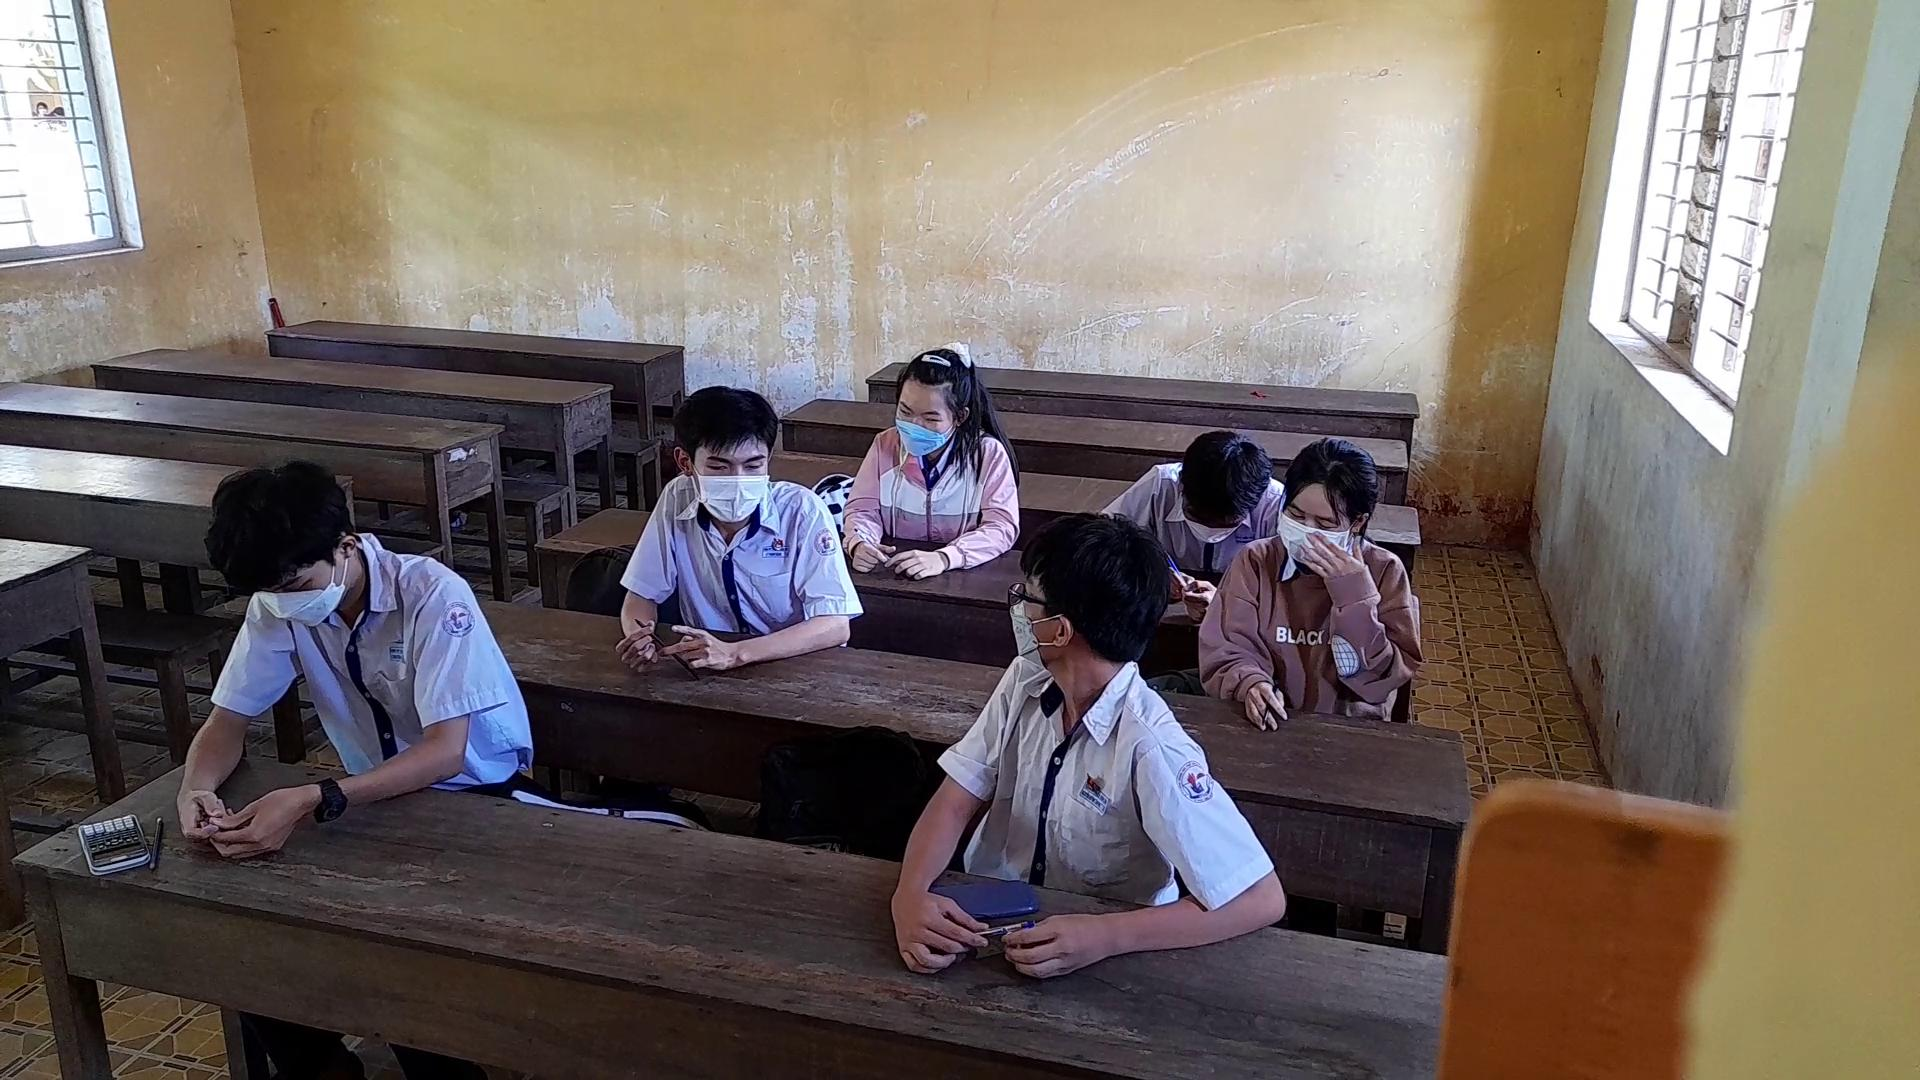Look Around: (988, 506, 1183, 694)
Normal: (185, 448, 549, 864), (578, 373, 862, 683), (831, 328, 1029, 591)
Wave: (1302, 537, 1428, 713)
